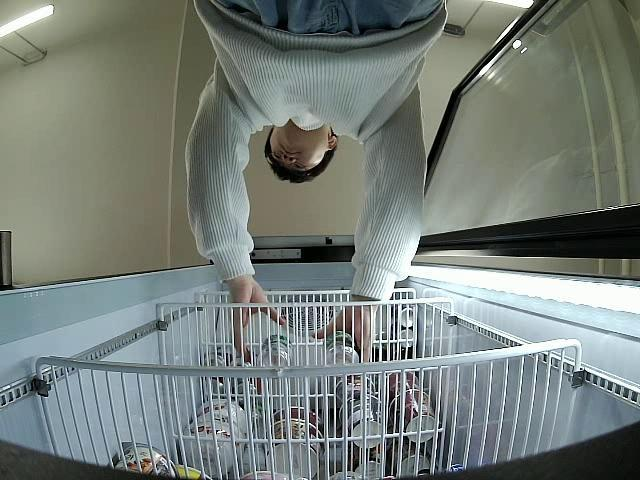12_chilsungCider: (325, 330, 358, 366)
